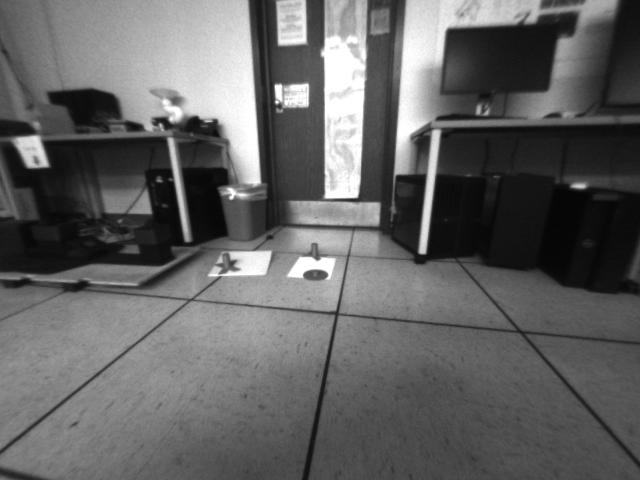X: (215, 251, 243, 275), (303, 241, 328, 260)
